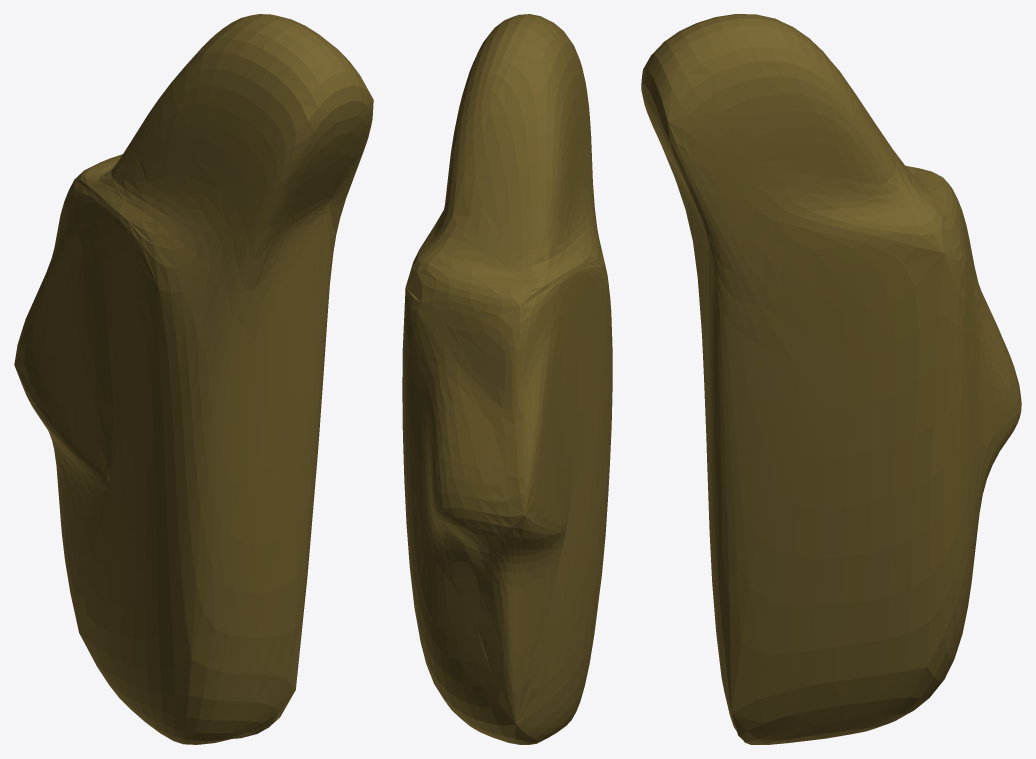
3 views of the same model, side by side, from view 1: azimuth 30°, elevation 25°; view 2: azimuth 150°, elevation 25°; view 3: azimuth 270°, elevation 25° (orthographic). The views are drawn at different scales.
Parts seen in each view (by area): view 1: 872_Cube.3522; view 2: 872_Cube.3522; view 3: 872_Cube.3522.
Part boxes in pixels (x1,y1,x2,y2): 872_Cube.3522: (14,14,373,744); 872_Cube.3522: (402,14,612,744); 872_Cube.3522: (641,14,1021,744).
Size of the model in its own units: 4.65 by 16.1 by 7.49.
